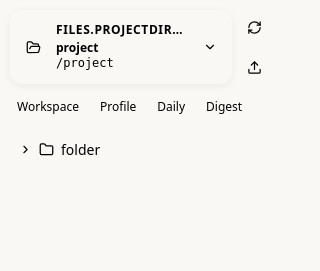
Test: FilesNavigator interactions › refreshes nested expanded directories without losing expansion
Click the button "folder" at [81, 149], box [7,133,275,165]
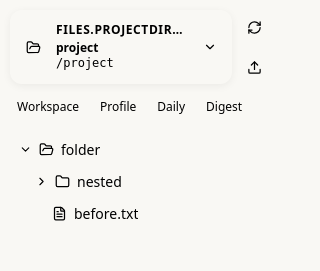
Click the button "nested" at [99, 181], box [7,165,275,197]
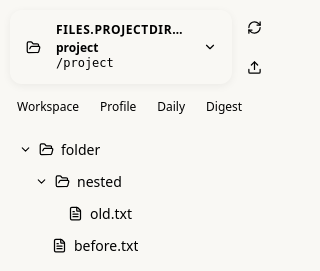
Result: the text "old.txt" is shown at [90,204,132,222]
Click the button named "common.refresh" at [255, 27], box [238,10,272,44]
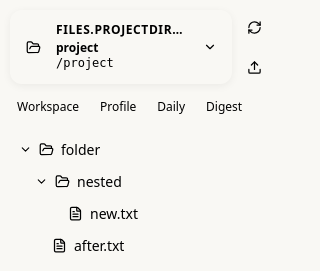
Result: the text "after.txt" is shown at [74,236,124,254]
Result: the text "new.txt" is shown at [90,204,138,222]
Result: the button "before.txt" is gone
